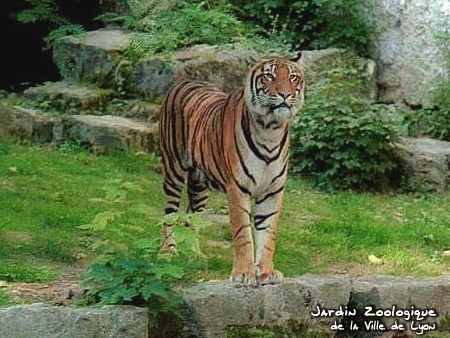tigre: (158, 50, 305, 285)
